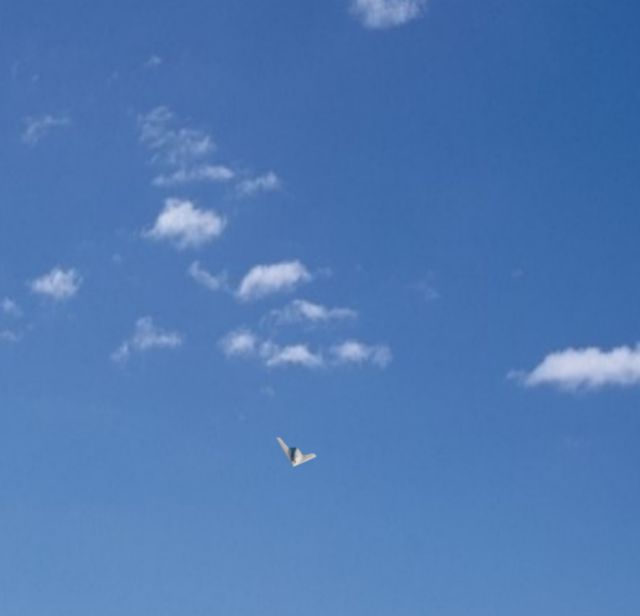military drone: (276, 436, 317, 467)
